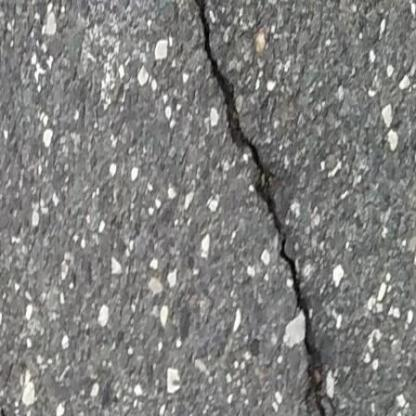Cracks: (184, 2, 362, 415)
